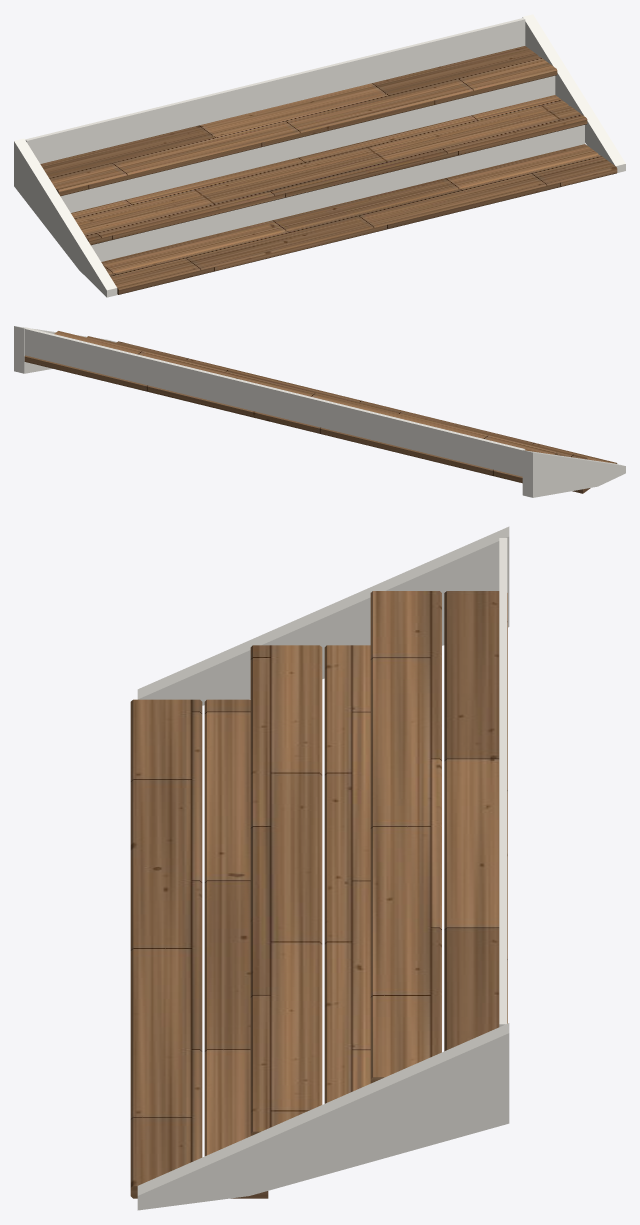
The model's file is porch_steps.glb.
3 renders of one model, top to bottom at view 1: azimuth 30°, elevation 25°; view 2: azimuth 150°, elevation 25°; view 3: azimuth 270°, elevation 25°, orthographic. The views are drawn at different scales.
Parts seen in each view (by area): view 1: porch_steps_deck, porch_steps_trim; view 2: porch_steps_trim, porch_steps_deck; view 3: porch_steps_deck, porch_steps_trim.
Part boxes in pixels (bbox=[...]): porch_steps_deck: bbox=[40, 46, 617, 294]; porch_steps_trim: bbox=[14, 14, 625, 297]; porch_steps_trim: bbox=[14, 326, 625, 497]; porch_steps_deck: bbox=[24, 331, 617, 493]; porch_steps_deck: bbox=[130, 591, 507, 1198]; porch_steps_trim: bbox=[137, 526, 509, 1210].
Size of the model in its own units: 3 by 0.49 by 0.947.
2 materials, 1 textured.
